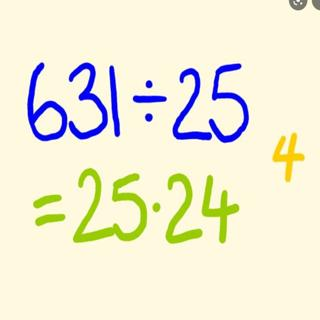.: (150, 198, 162, 218)
1: (105, 59, 128, 146)
2: (66, 163, 113, 246), (173, 62, 213, 143), (163, 166, 203, 247)
3: (68, 55, 109, 144)
4: (201, 170, 242, 246), (270, 126, 312, 185)
5: (211, 57, 252, 148), (111, 168, 149, 247)
6: (17, 56, 69, 144)
